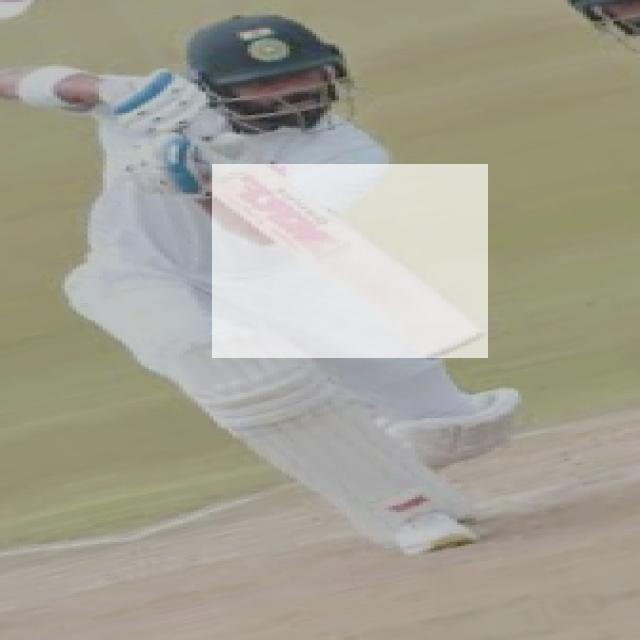bat: (215, 163, 488, 361)
toe: (427, 329, 479, 358)
